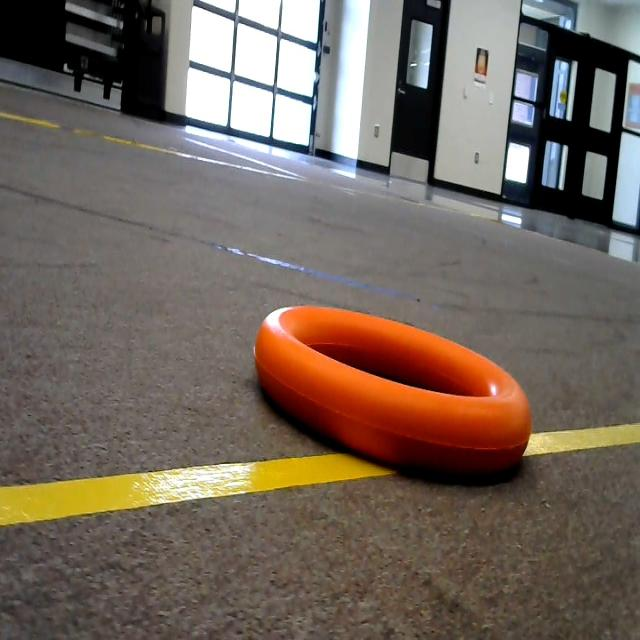note: (241, 278, 564, 518)
